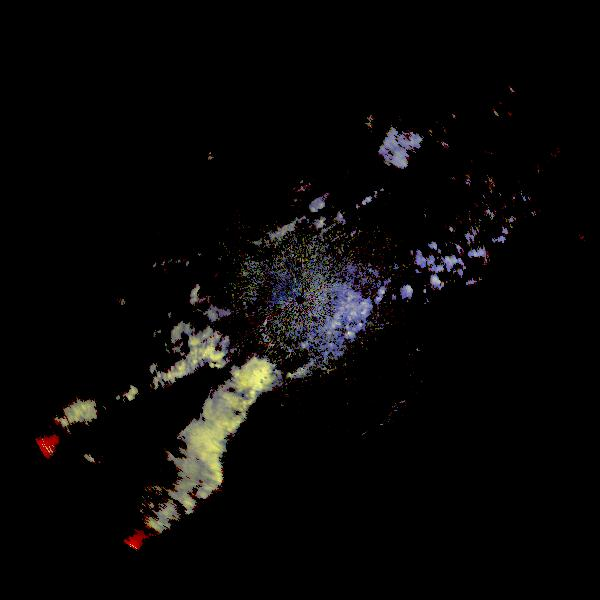roost: (185, 211, 467, 493)
